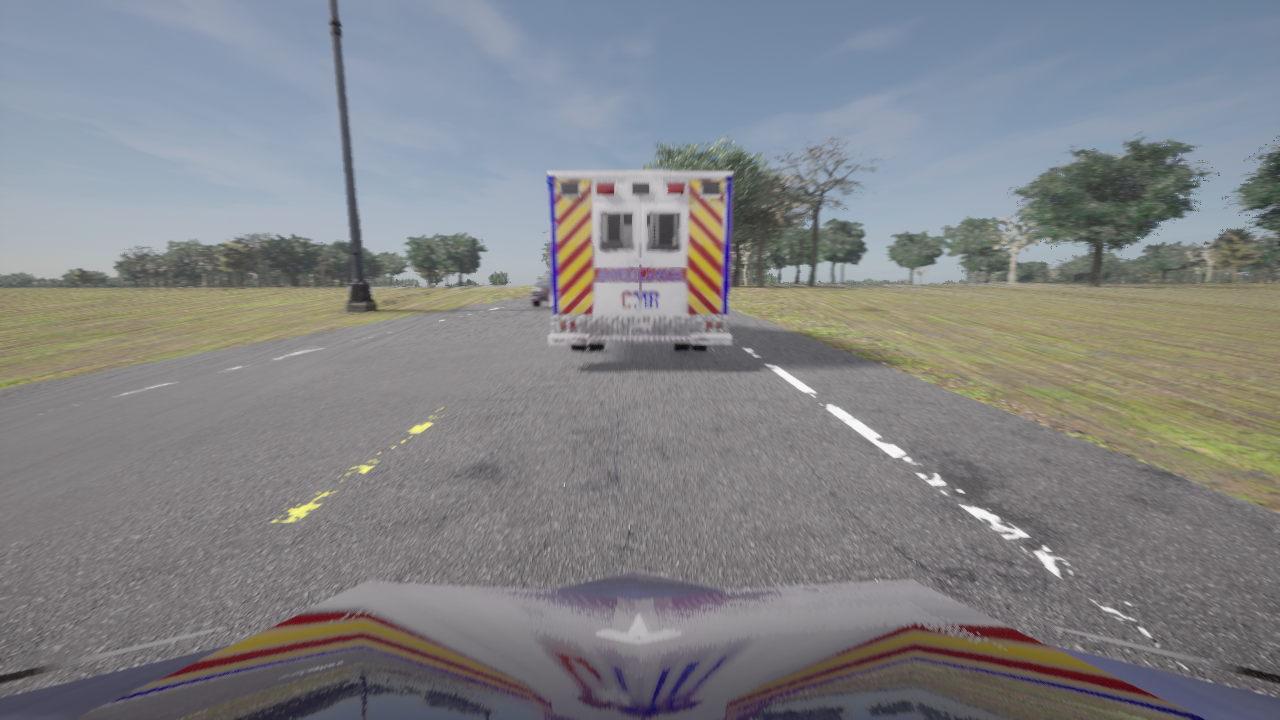cyclist: (0, 569, 1279, 719), (547, 171, 732, 351), (530, 270, 550, 306)
